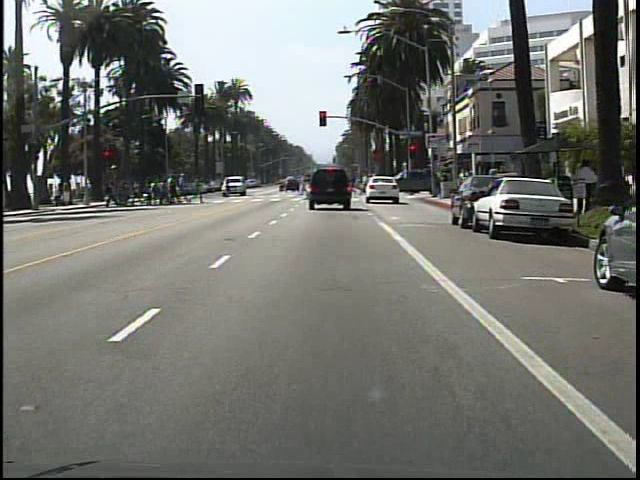person: (569, 156, 599, 220), (218, 173, 237, 202)
